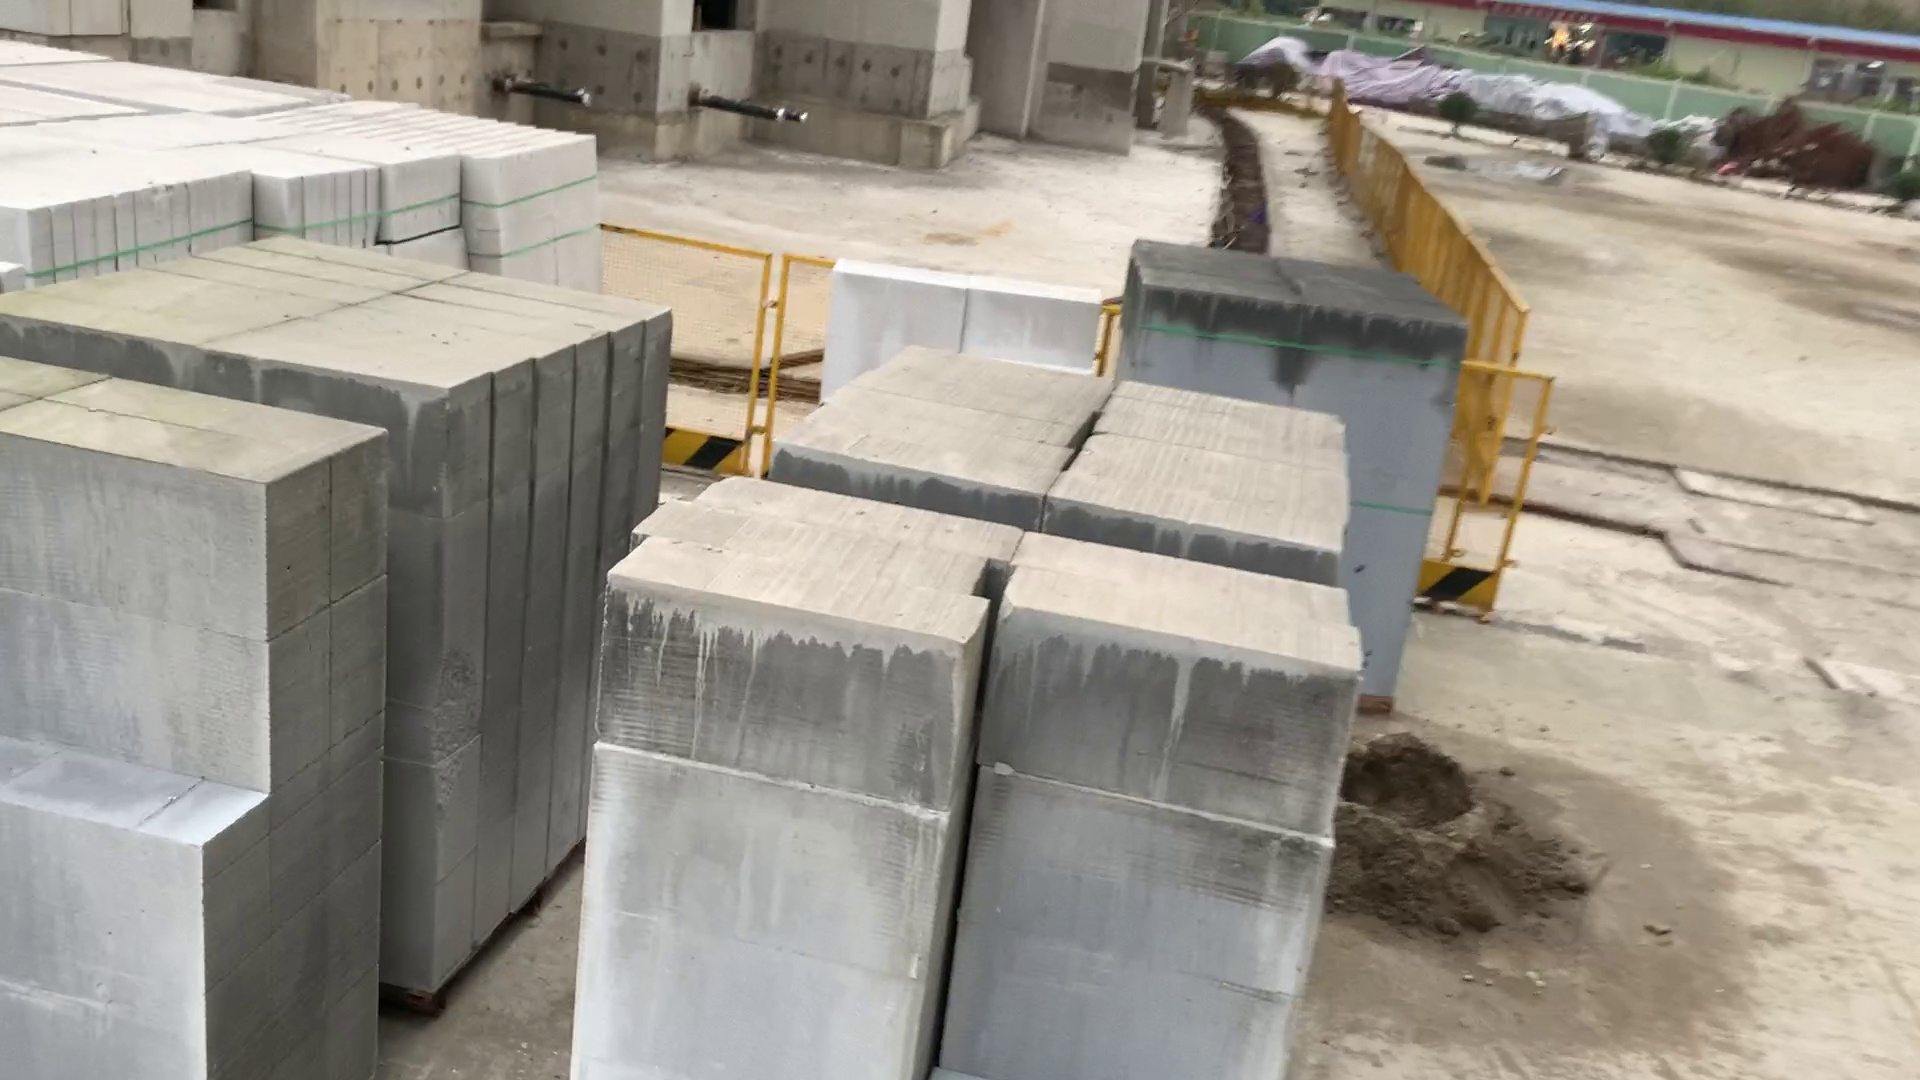brickwork: (568, 484, 1327, 1080), (4, 357, 385, 1080), (795, 323, 1356, 564), (3, 229, 683, 402), (1124, 231, 1477, 389), (133, 107, 462, 204), (3, 125, 253, 248), (261, 95, 591, 179), (29, 58, 324, 111), (3, 34, 111, 69)
